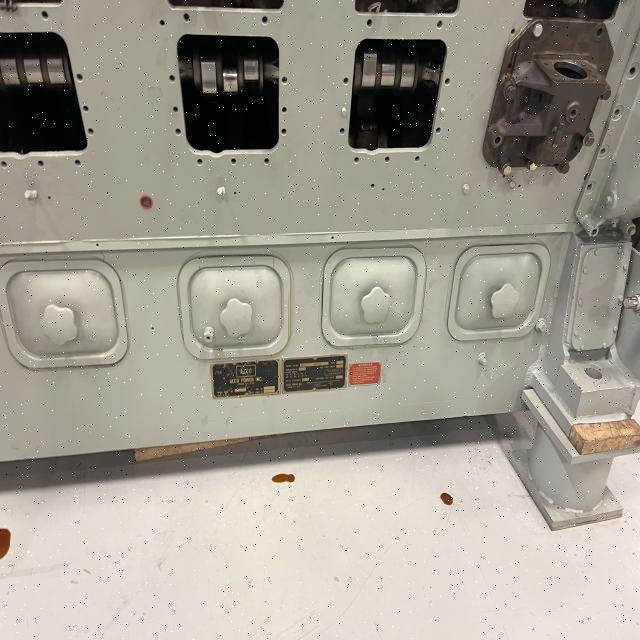Oil Leak: (268, 256, 294, 356), (437, 490, 456, 508), (272, 473, 295, 483), (1, 529, 11, 544)
